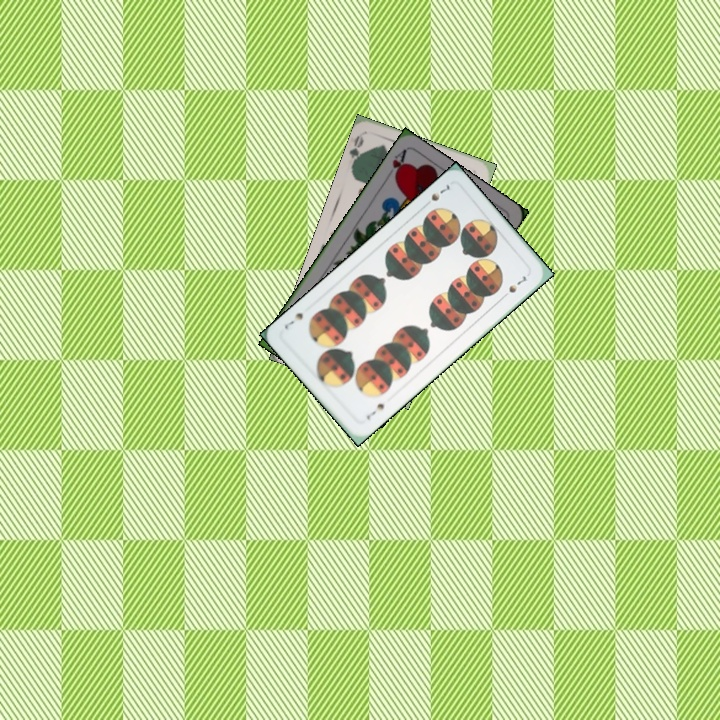GO: (346, 131, 368, 171)
HA: (388, 146, 409, 183)
S7: (419, 180, 452, 210), (362, 398, 389, 422)
